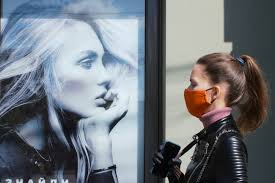with_mask: (182, 61, 242, 124)
without_mask: (32, 13, 122, 122)
